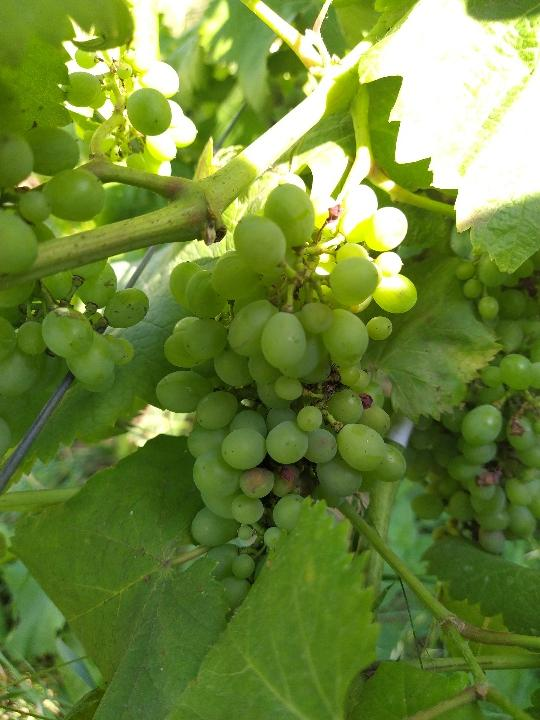grape: (156, 175, 420, 612)
